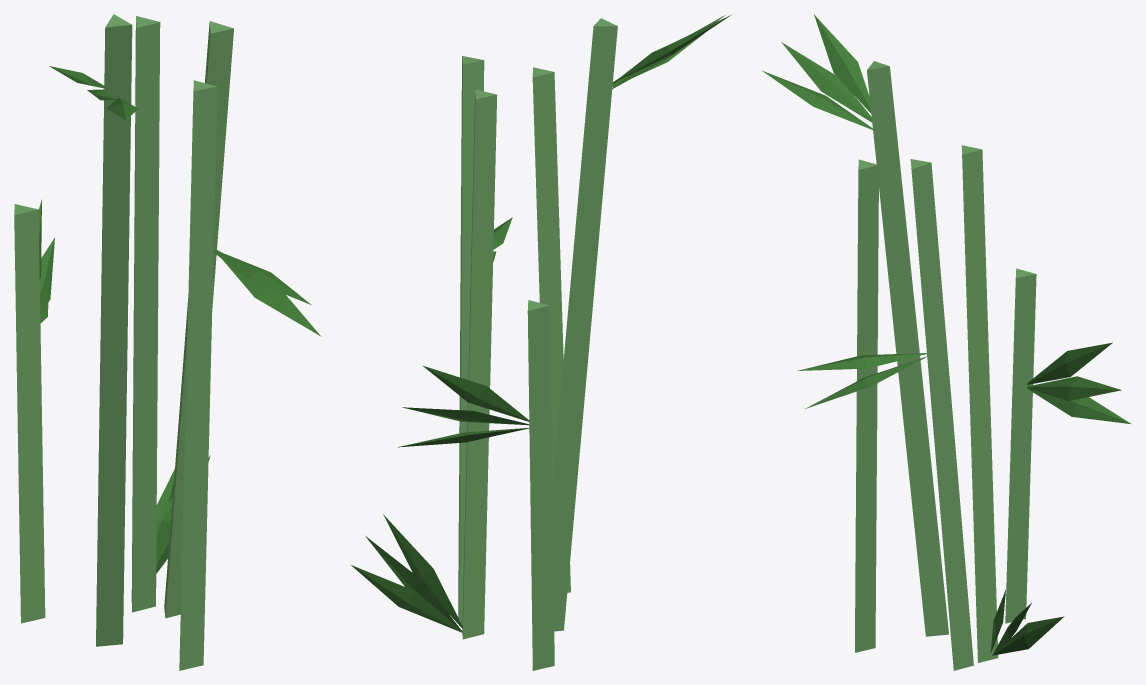
Rendered from sugarcane.obj.
3 views of the same model, side by side, from view 1: azimuth 30°, elevation 25°; view 2: azimuth 150°, elevation 25°; view 3: azimuth 270°, elevation 25° (orthographic). The views are drawn at different scales.
Parts seen in each view (by area): view 1: Cane_Cube.015; view 2: Cane_Cube.015; view 3: Cane_Cube.015.
Part boxes in pixels (box(x1,y1,x2,y2)): Cane_Cube.015: box(14, 14, 321, 670); Cane_Cube.015: box(351, 15, 730, 670); Cane_Cube.015: box(762, 14, 1131, 670).
Size of the model in its own units: 2.02 by 4.54 by 2.71.
Materials: 1 (1 with a texture image).
